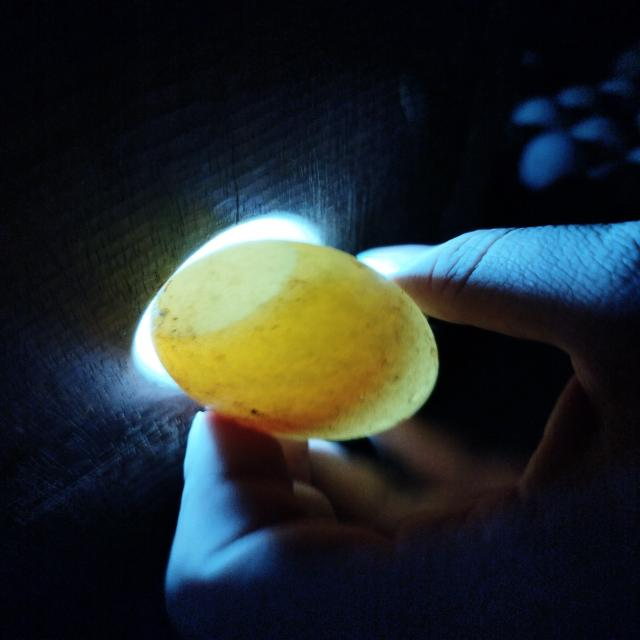Camara de Ar: (149, 240, 297, 338)
Gema Quebrada: (213, 370, 380, 436)
